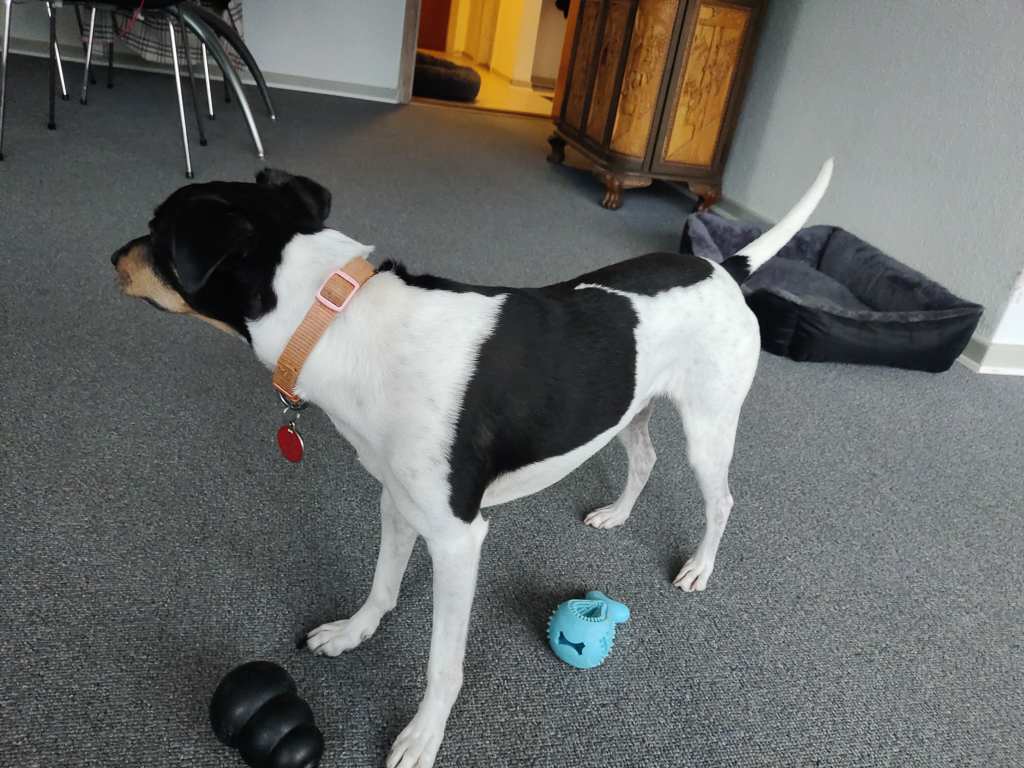Dog: (99, 143, 850, 768)
